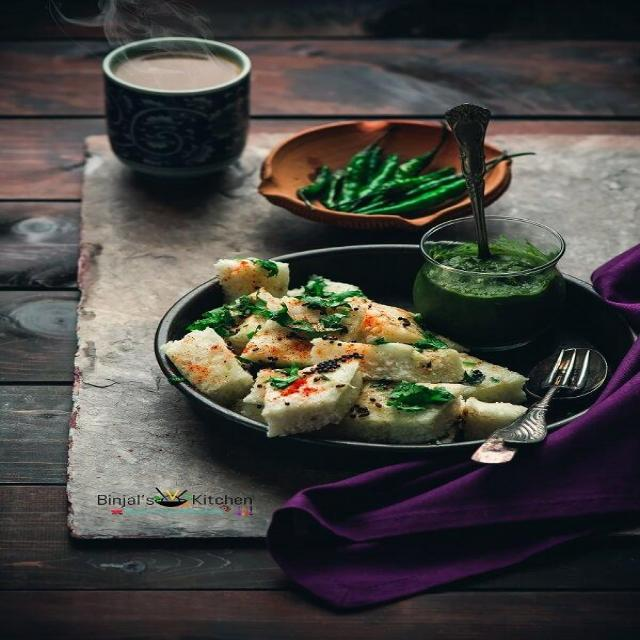dhokla: (154, 258, 530, 448)
